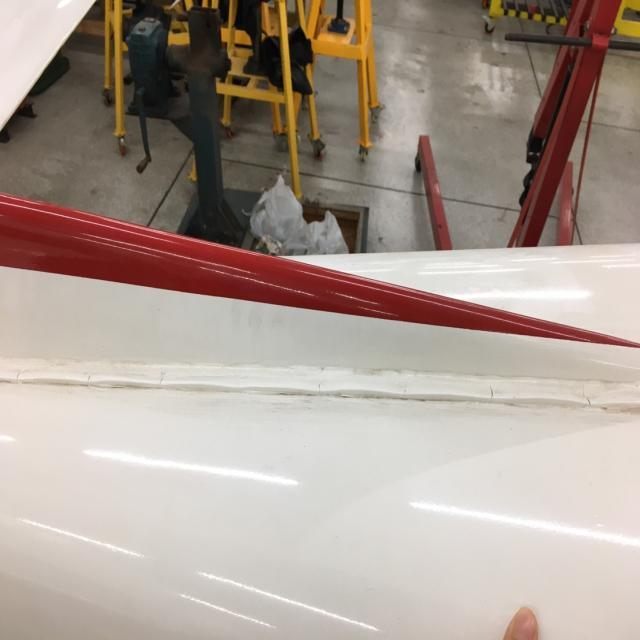Rupture: (0, 364, 630, 416)
